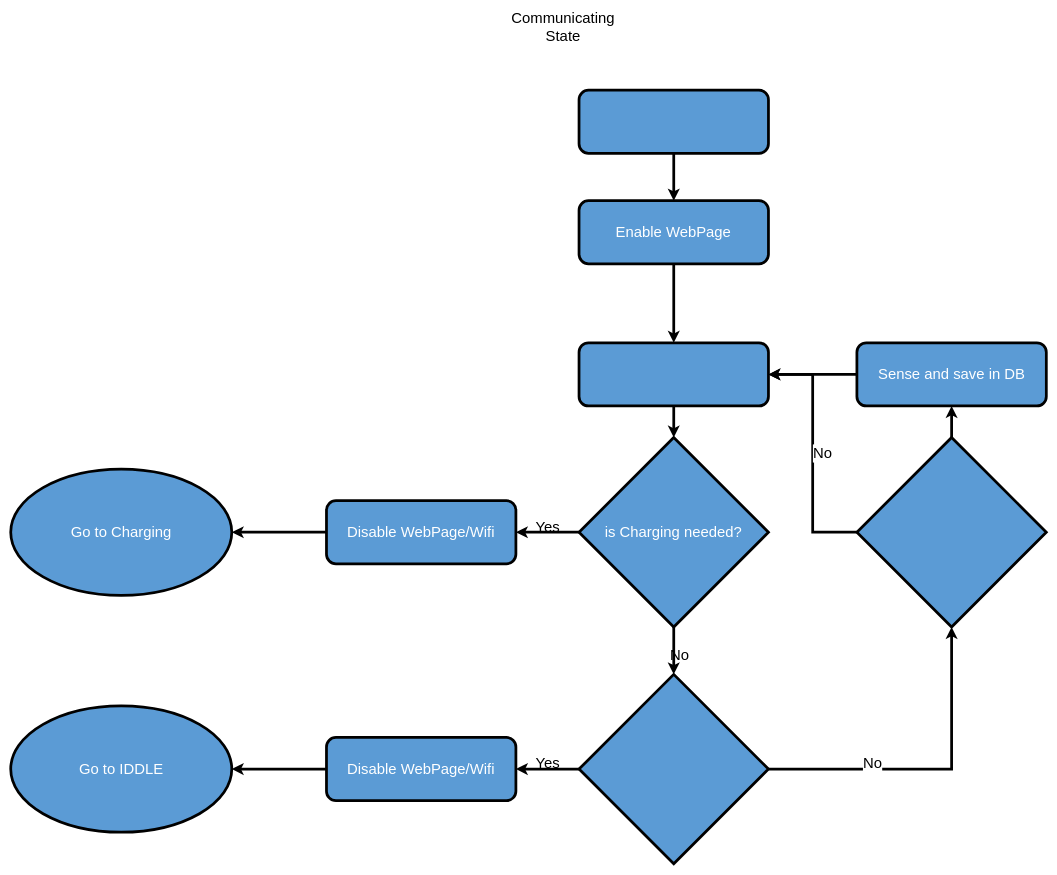
Some shapes in this 1057 by 875 pixel diagram are drawn without their labels. Here are the shapes that lost their labels. From the top down, the box of each, then its label:
(577, 89, 770, 154): Enable Wifi
(577, 341, 770, 407): Receive/Send data
(855, 436, 1047, 628): it's sensing time?
(577, 673, 770, 865): Is communiaction Over?
